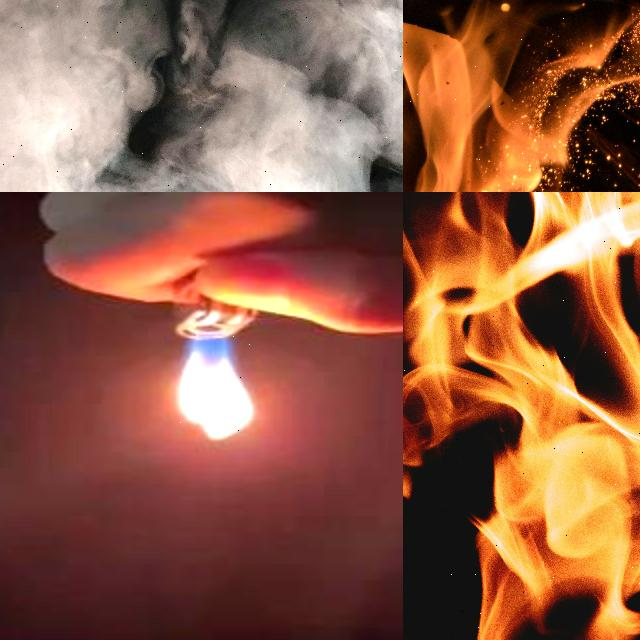fire: (403, 192, 640, 640), (474, 0, 640, 192), (176, 300, 256, 441)
smoke: (0, 0, 403, 192)
